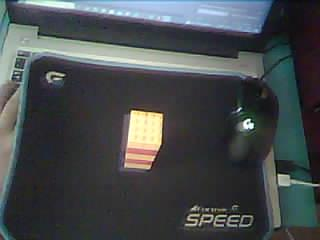lego: (124, 109, 163, 170)
